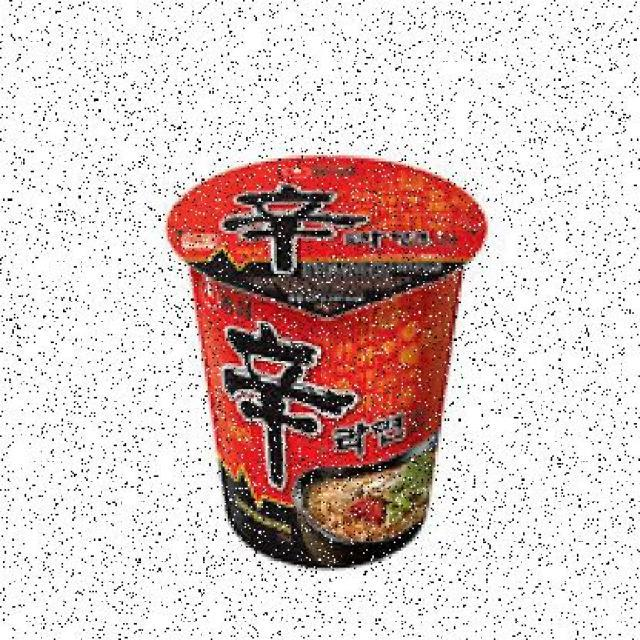Miscellaneous: (175, 152, 488, 574)
